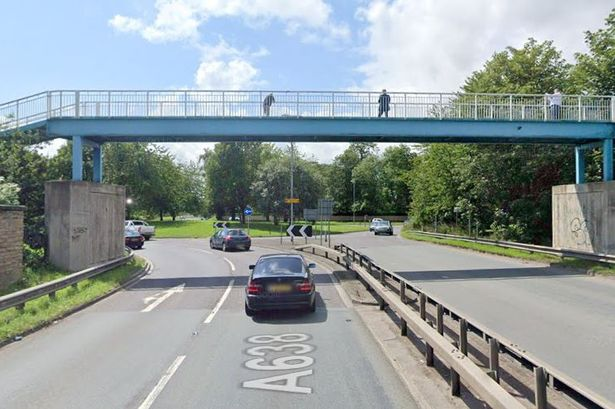bridge: (50, 91, 609, 259)
